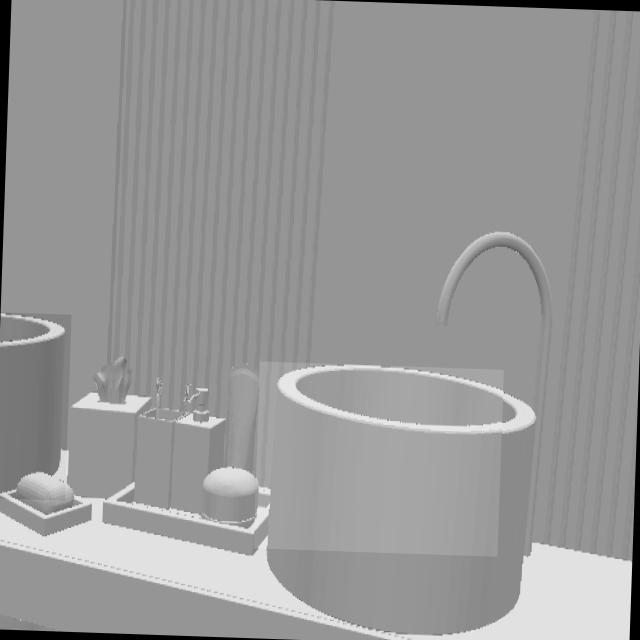washbasin: (257, 365, 503, 555), (0, 312, 68, 493)
